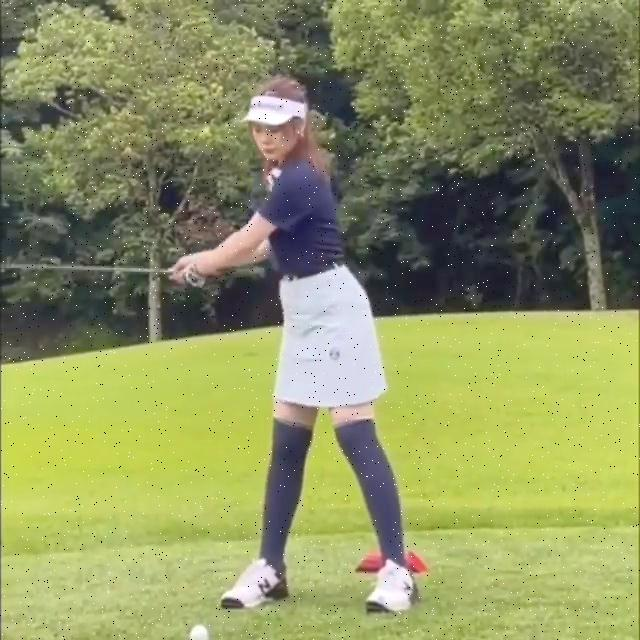ClubHandle: (0, 257, 186, 276)
GolfBall: (181, 620, 219, 640)
